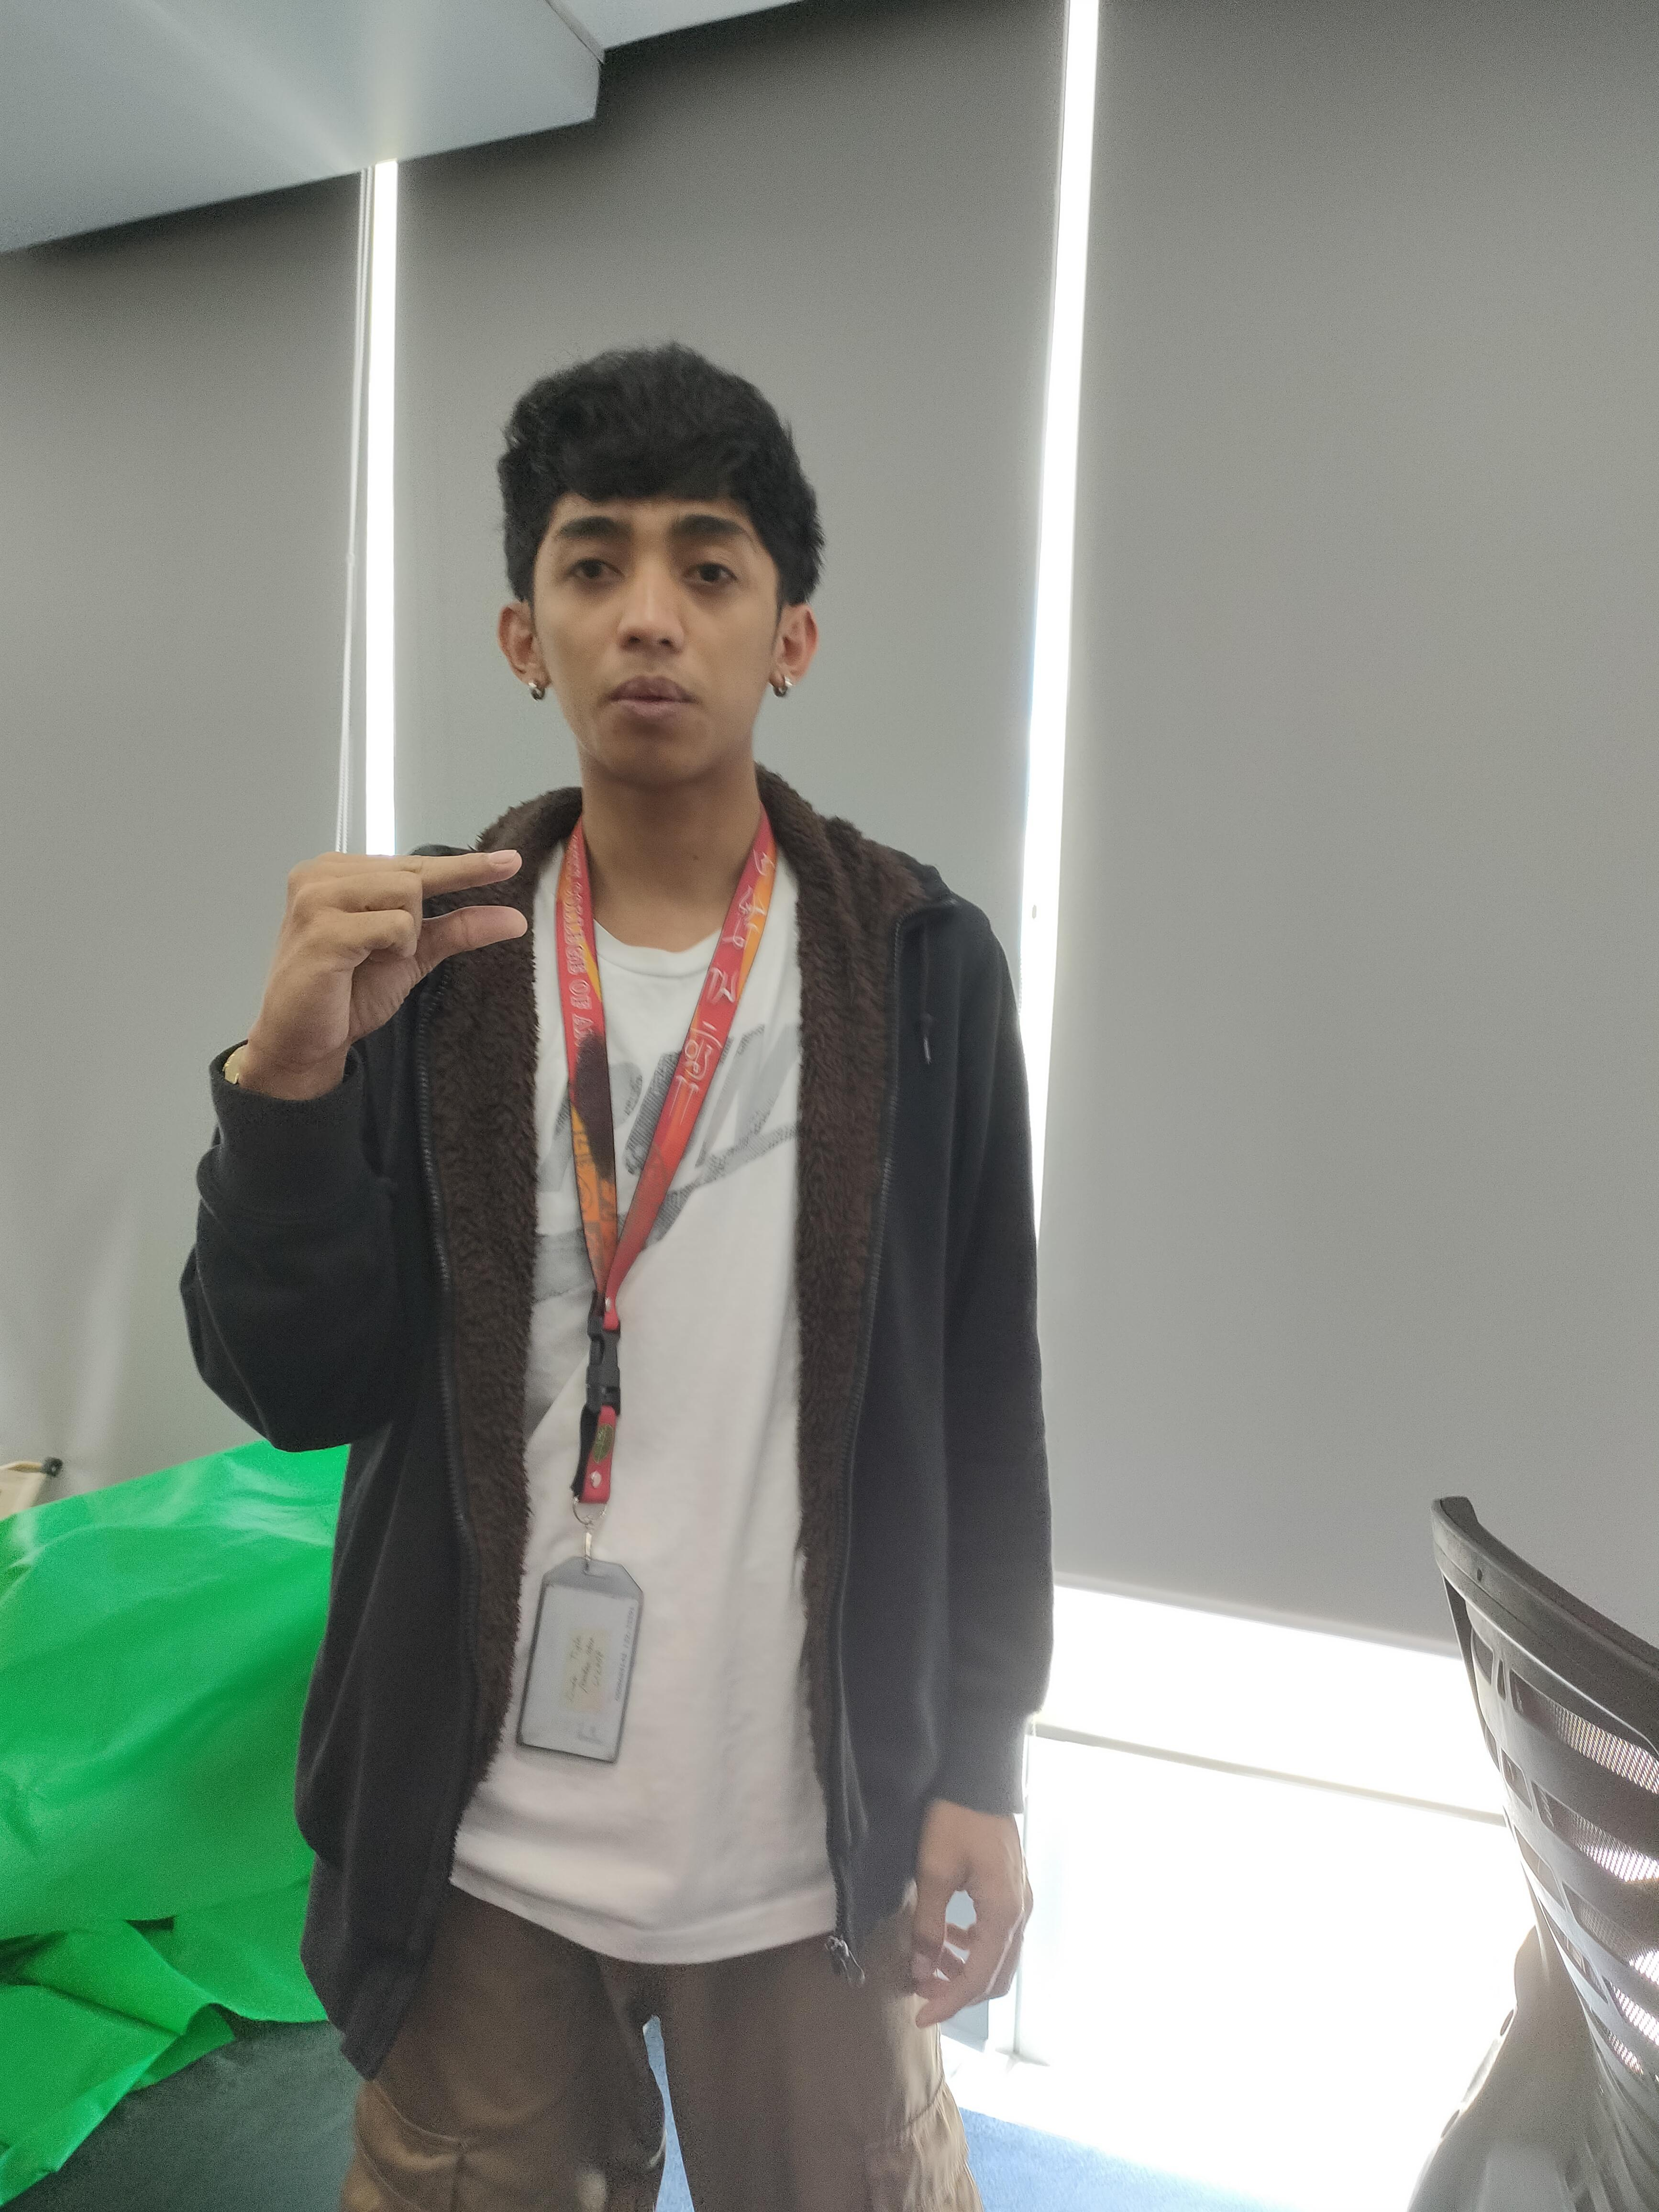No: (251, 841, 559, 1033)
